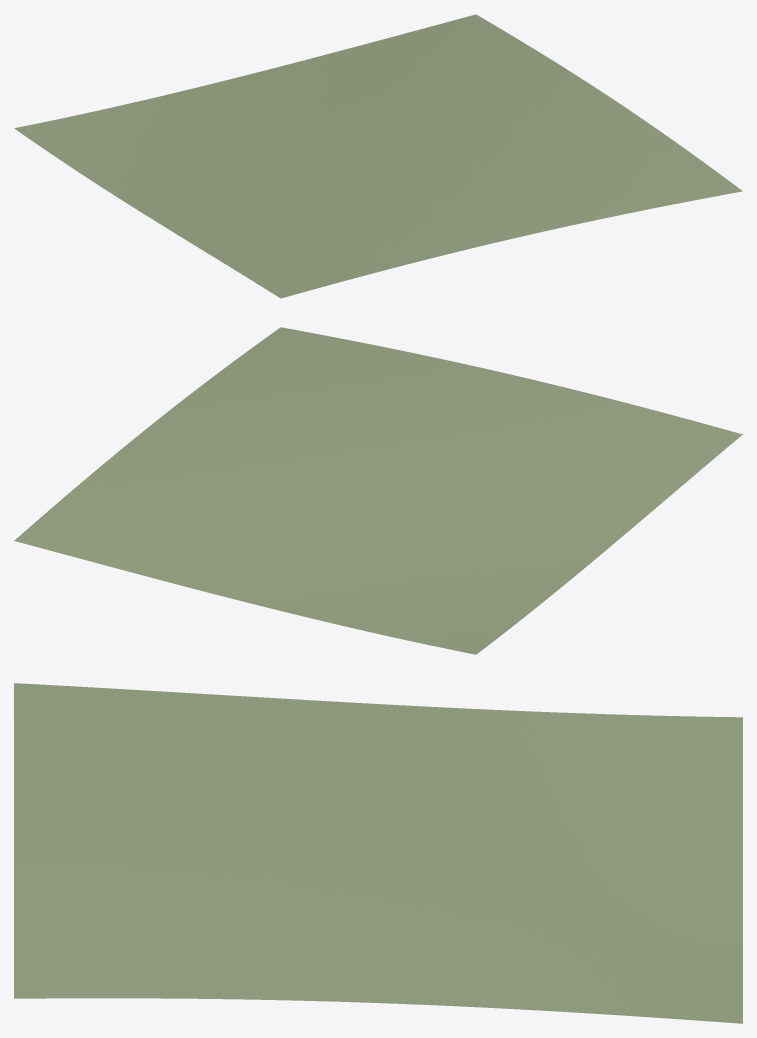
File: alpine-0-6.glb
3 renders of one model, top to bottom at view 1: azimuth 30°, elevation 25°; view 2: azimuth 150°, elevation 25°; view 3: azimuth 270°, elevation 25°, orthographic. The views are drawn at different scales.
Parts seen in each view (by area): view 1: alpine-0-6; view 2: alpine-0-6; view 3: alpine-0-6.
Boxes of the visible parts, x1,y1,x2,y2 form: alpine-0-6: [14, 14, 742, 298]; alpine-0-6: [14, 327, 742, 654]; alpine-0-6: [14, 683, 742, 1023].
Size of the model in its own units: 256 by 17.21 by 256.
